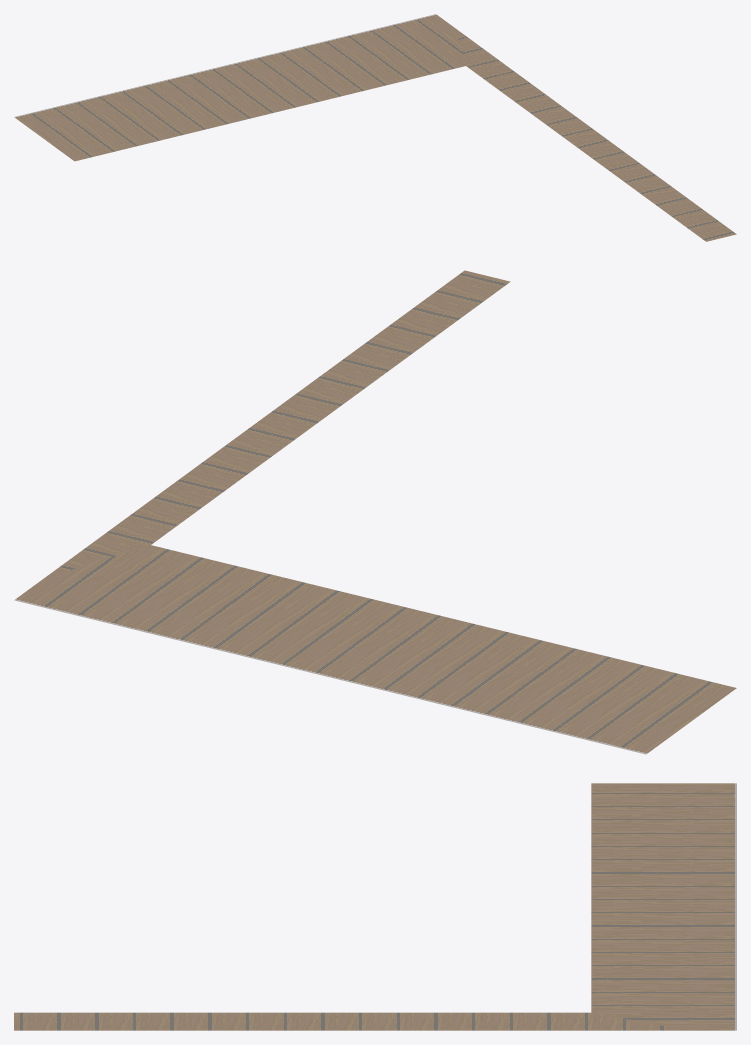
The model's file is kd_stage_135b75_4_92_bounded.glb.
The picture shows the model from 3 angles, top to bottom: view 1: azimuth 30°, elevation 25°; view 2: azimuth 150°, elevation 25°; view 3: azimuth 270°, elevation 25°; orthographic projection. The views are drawn at different scales.
Visible parts, largest first — view 1: kd_stage_135b75_4_92_bounded; view 2: kd_stage_135b75_4_92_bounded; view 3: kd_stage_135b75_4_92_bounded.
Boxes of the visible parts, box(x1,y1,x2,y2) form: kd_stage_135b75_4_92_bounded: box(14, 14, 736, 241); kd_stage_135b75_4_92_bounded: box(14, 270, 736, 754); kd_stage_135b75_4_92_bounded: box(14, 783, 736, 1030).
Size of the model in its own units: 3.79 by 4.77e-07 by 4.68.
Materials: 1 (1 with a texture image).
